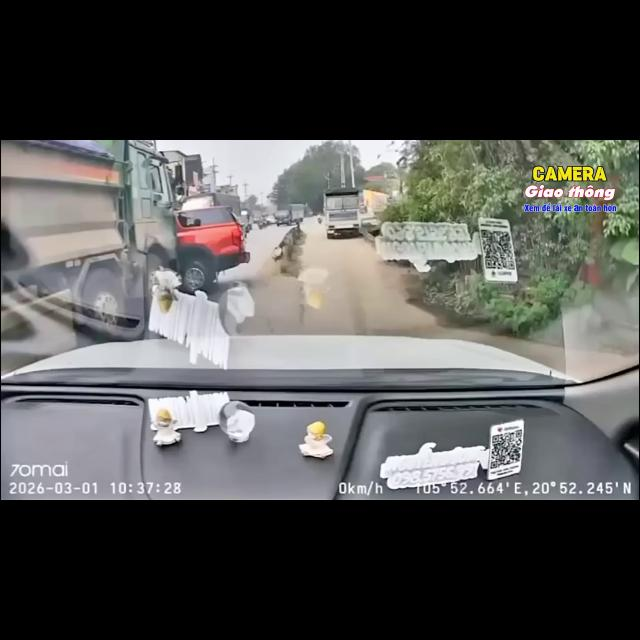car: (1, 329, 639, 499), (176, 207, 249, 292)
motorcycle: (258, 221, 264, 229), (317, 217, 322, 223)
truck: (2, 140, 178, 339), (180, 193, 250, 232), (324, 188, 360, 238), (180, 193, 241, 216), (361, 190, 389, 228), (274, 208, 292, 226), (290, 204, 304, 223)
